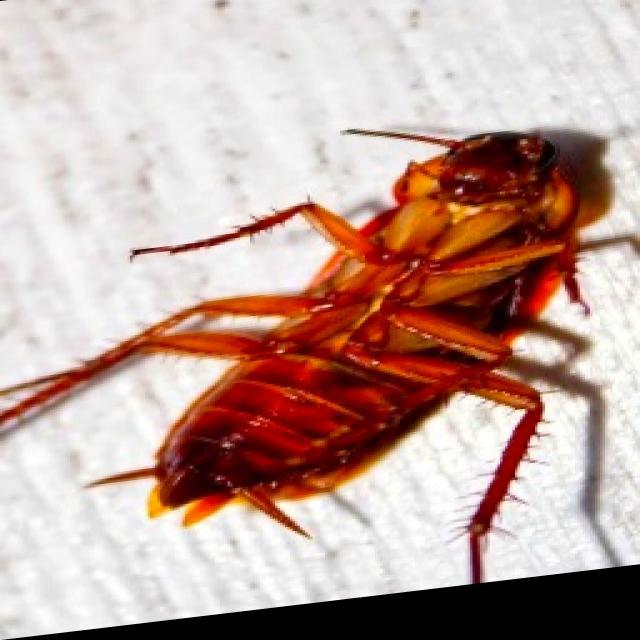cockroach: (2, 121, 617, 574)
